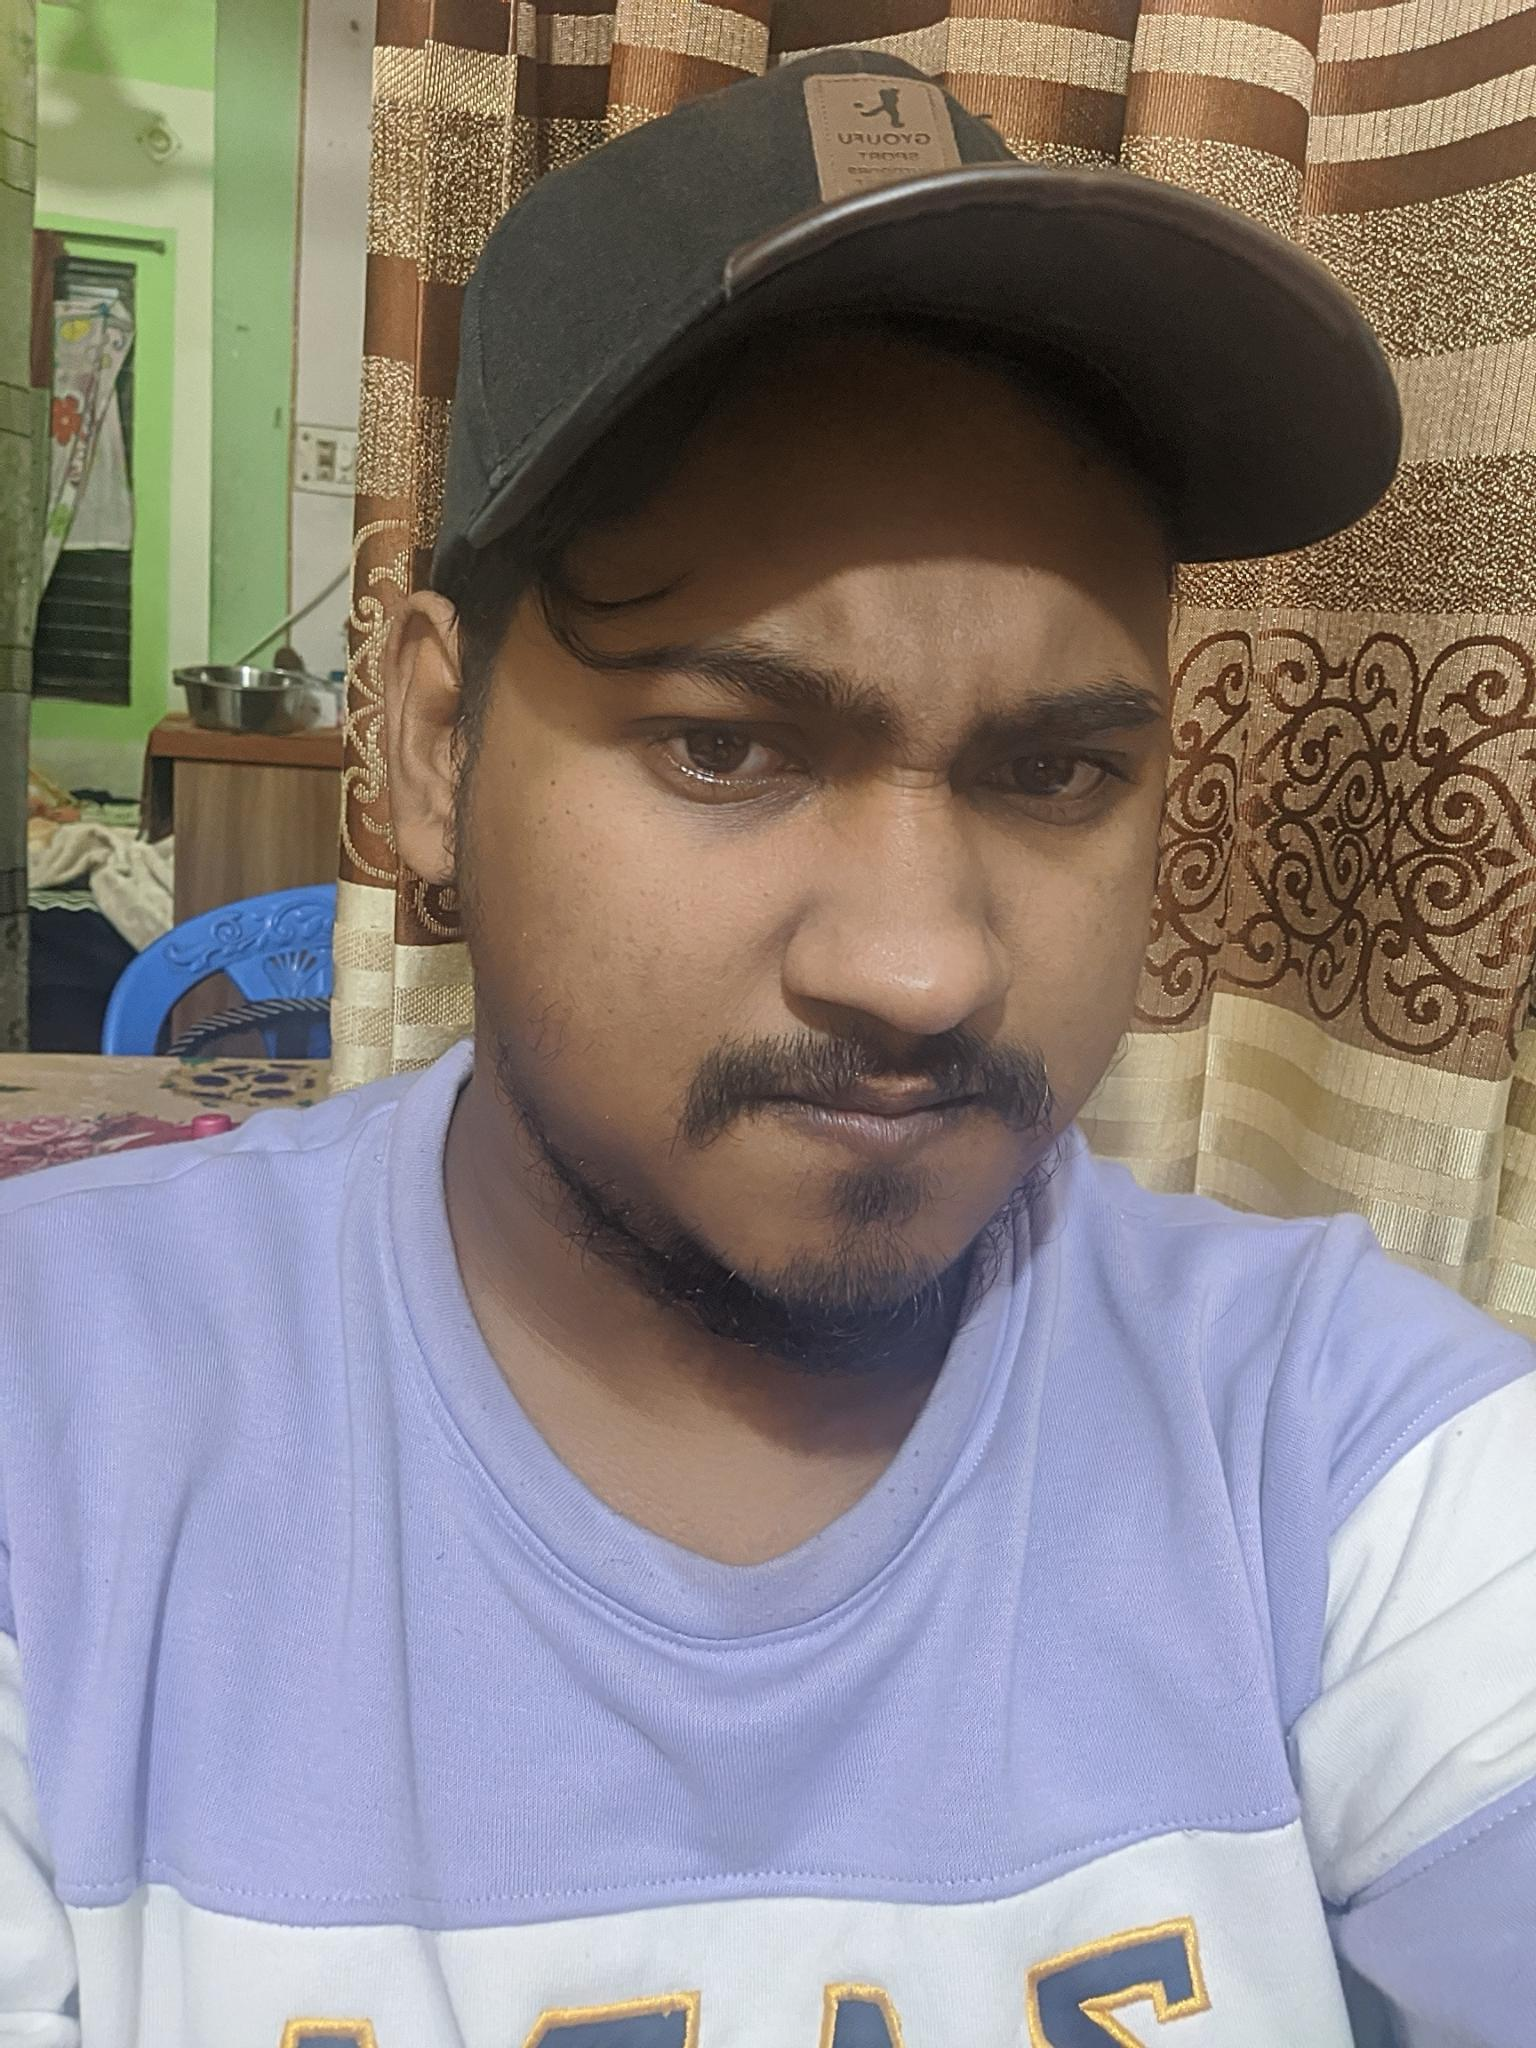Angry: (549, 574, 1212, 1248)
